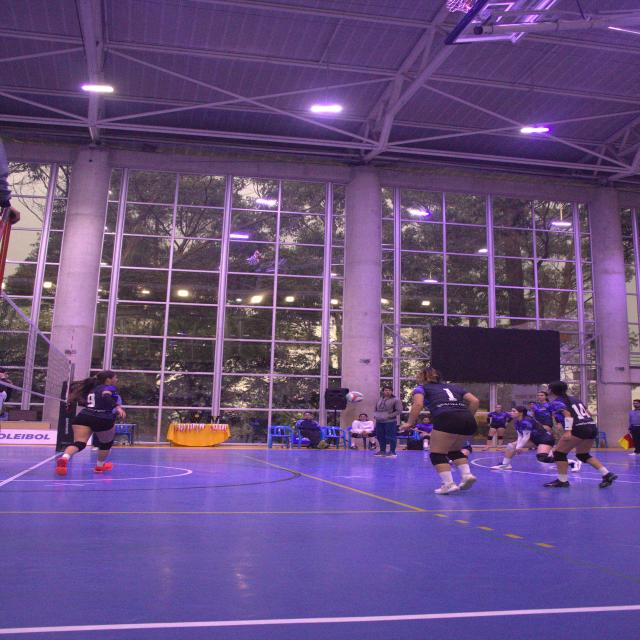volleyball: (346, 391, 364, 403)
